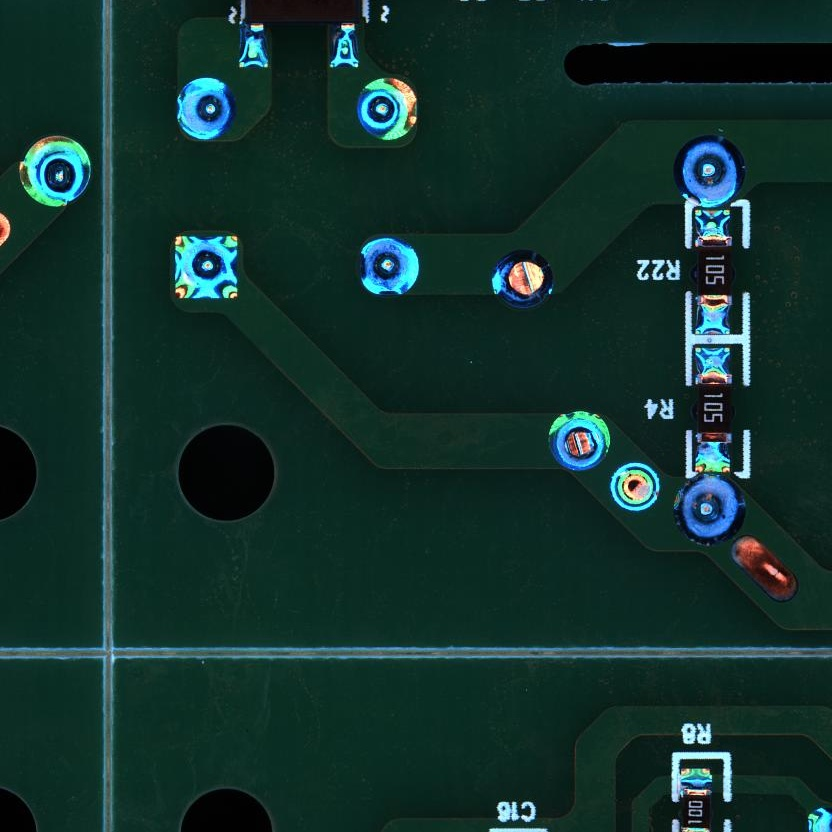spot: (671, 470, 748, 547), (671, 133, 745, 211), (18, 133, 93, 208), (172, 231, 240, 303), (173, 75, 240, 144), (490, 249, 557, 313), (547, 409, 612, 474), (356, 76, 419, 141), (358, 234, 421, 299), (607, 460, 661, 512)
